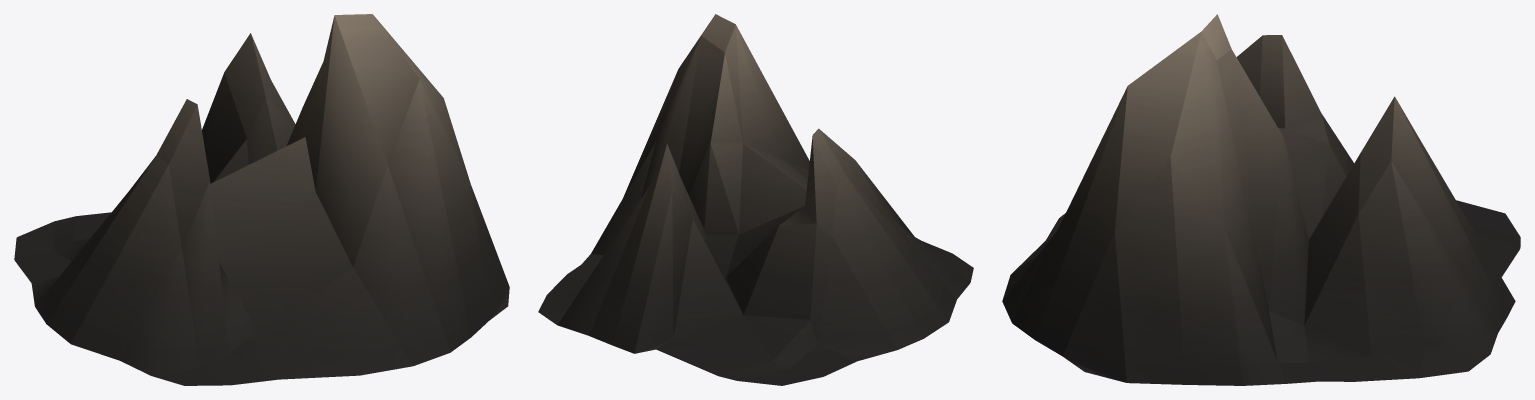
File: mountain01_mdl.FBX
The picture shows the model from 3 angles, left to right: view 1: azimuth 30°, elevation 25°; view 2: azimuth 150°, elevation 25°; view 3: azimuth 270°, elevation 25°; orthographic projection. The views are drawn at different scales.
Visible parts, largest first — view 1: mountain01; view 2: mountain01; view 3: mountain01.
Part boxes in pixels (x1,y1,x2,y2): mountain01: [14, 14, 509, 385]; mountain01: [538, 14, 973, 385]; mountain01: [1002, 14, 1520, 385].
Size of the model in its own units: 25.64 by 17.07 by 26.89.
Materials: 1 (1 with a texture image).
